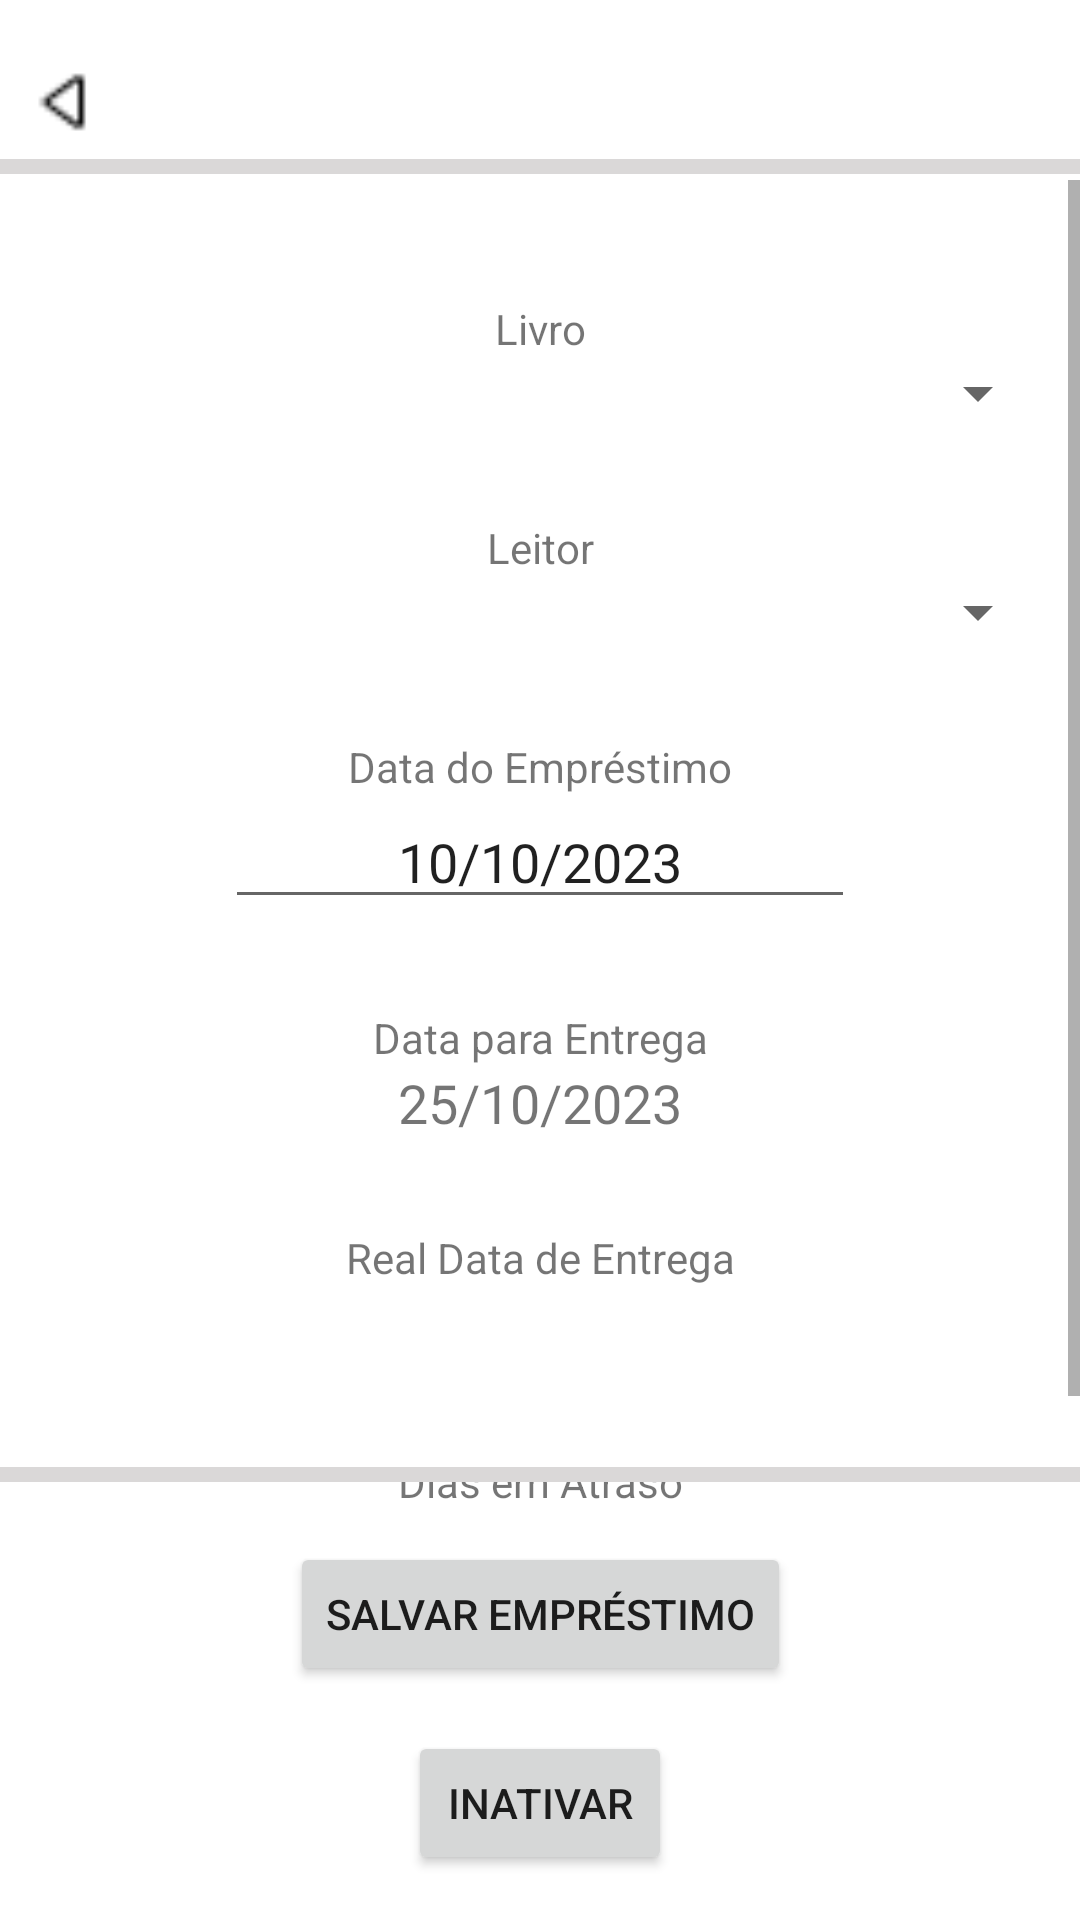

Icons on this 1080x1920 Android screen, each with the point to tap as [x,y]:
arrow left: [62,102]
